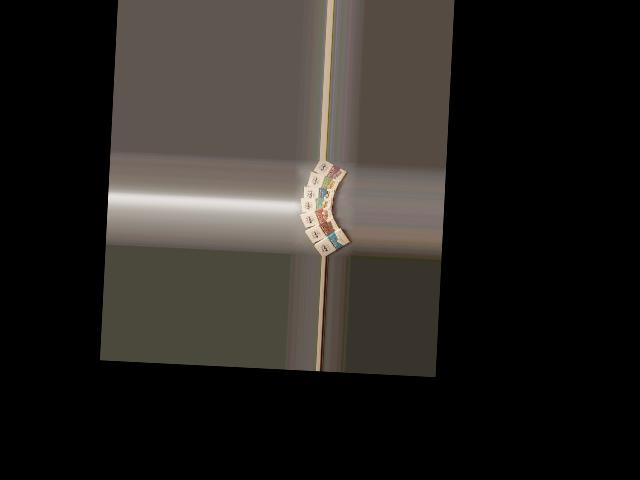chocolate: (312, 226, 352, 257)
